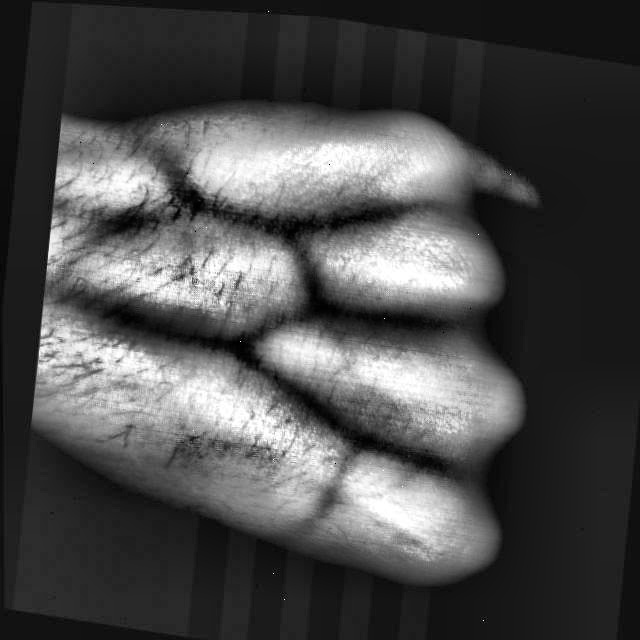Vein: (69, 284, 252, 372)
